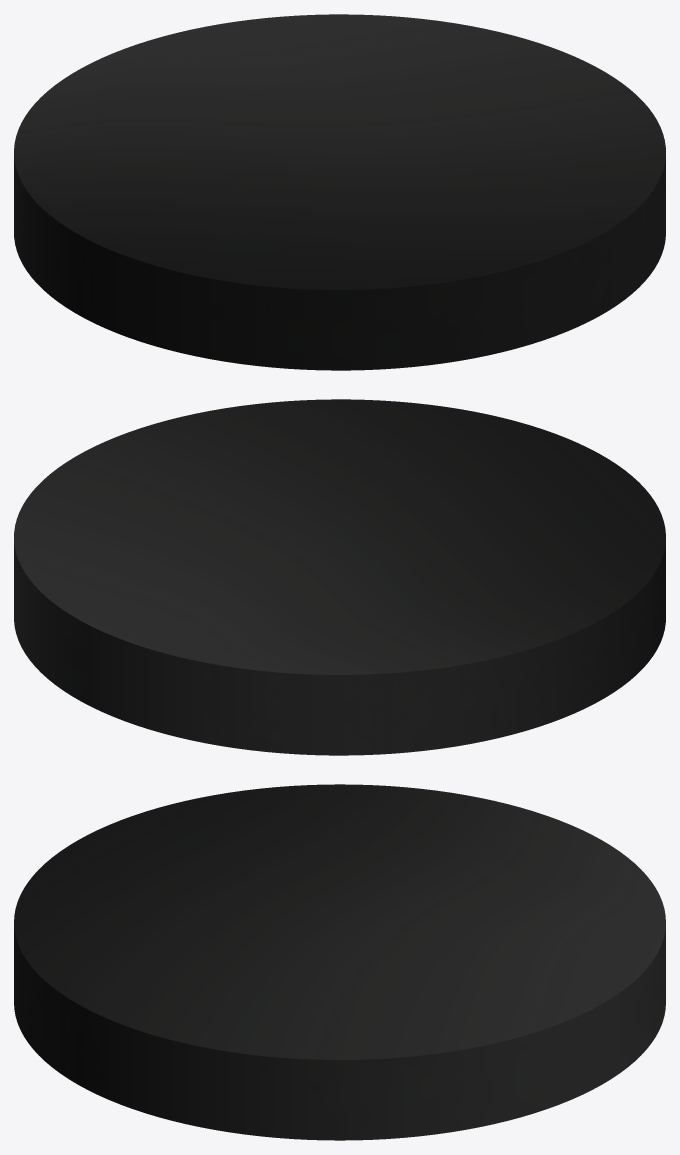
The model's file is light.fbx.
3 renders of one model, top to bottom at view 1: azimuth 30°, elevation 25°; view 2: azimuth 150°, elevation 25°; view 3: azimuth 270°, elevation 25°, orthographic.
Visible parts, largest first — view 1: Cylinder; view 2: Cylinder; view 3: Cylinder.
Boxes of the visible parts, x1,y1,x2,y2 form: Cylinder: (14, 14, 665, 370); Cylinder: (14, 399, 665, 755); Cylinder: (14, 784, 665, 1140).
Size of the model in its own units: 200 by 27.27 by 200.
